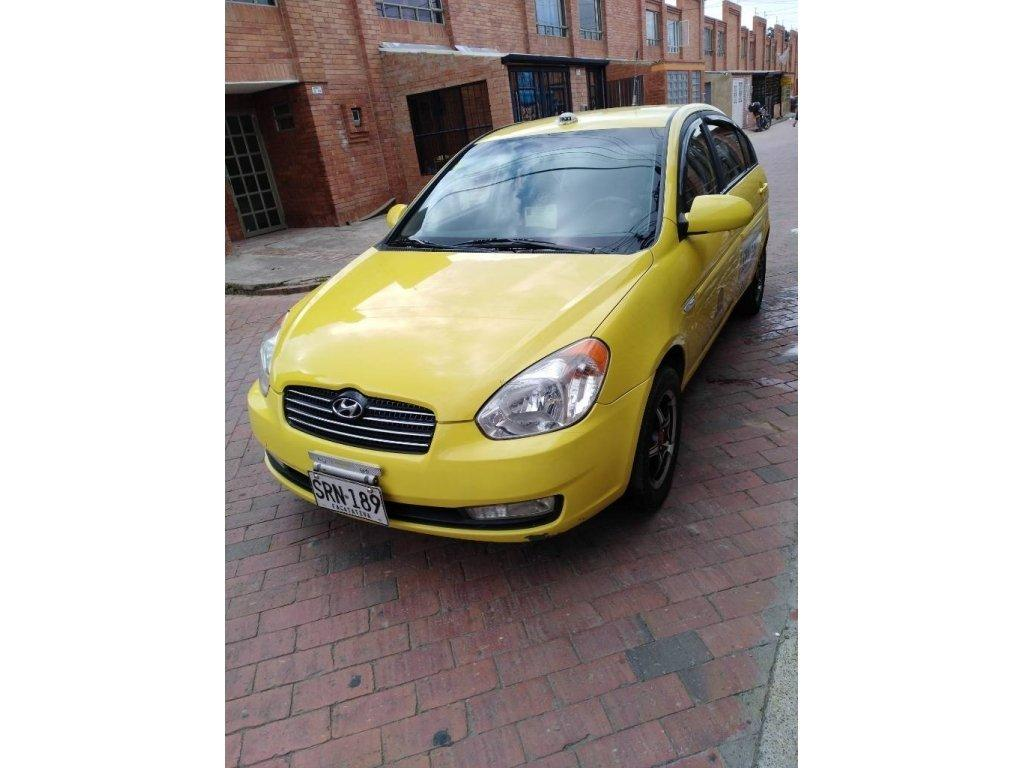taxi: (252, 30, 804, 575)
